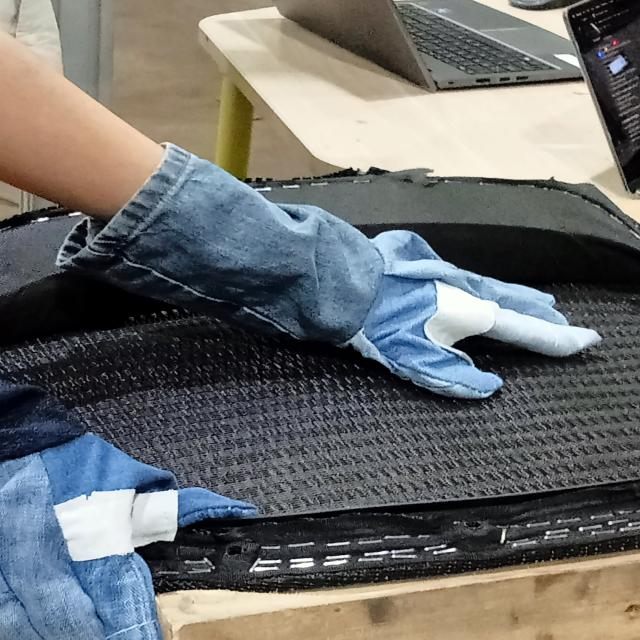Gloves-Detection: (150, 147, 528, 380), (0, 364, 197, 640)
